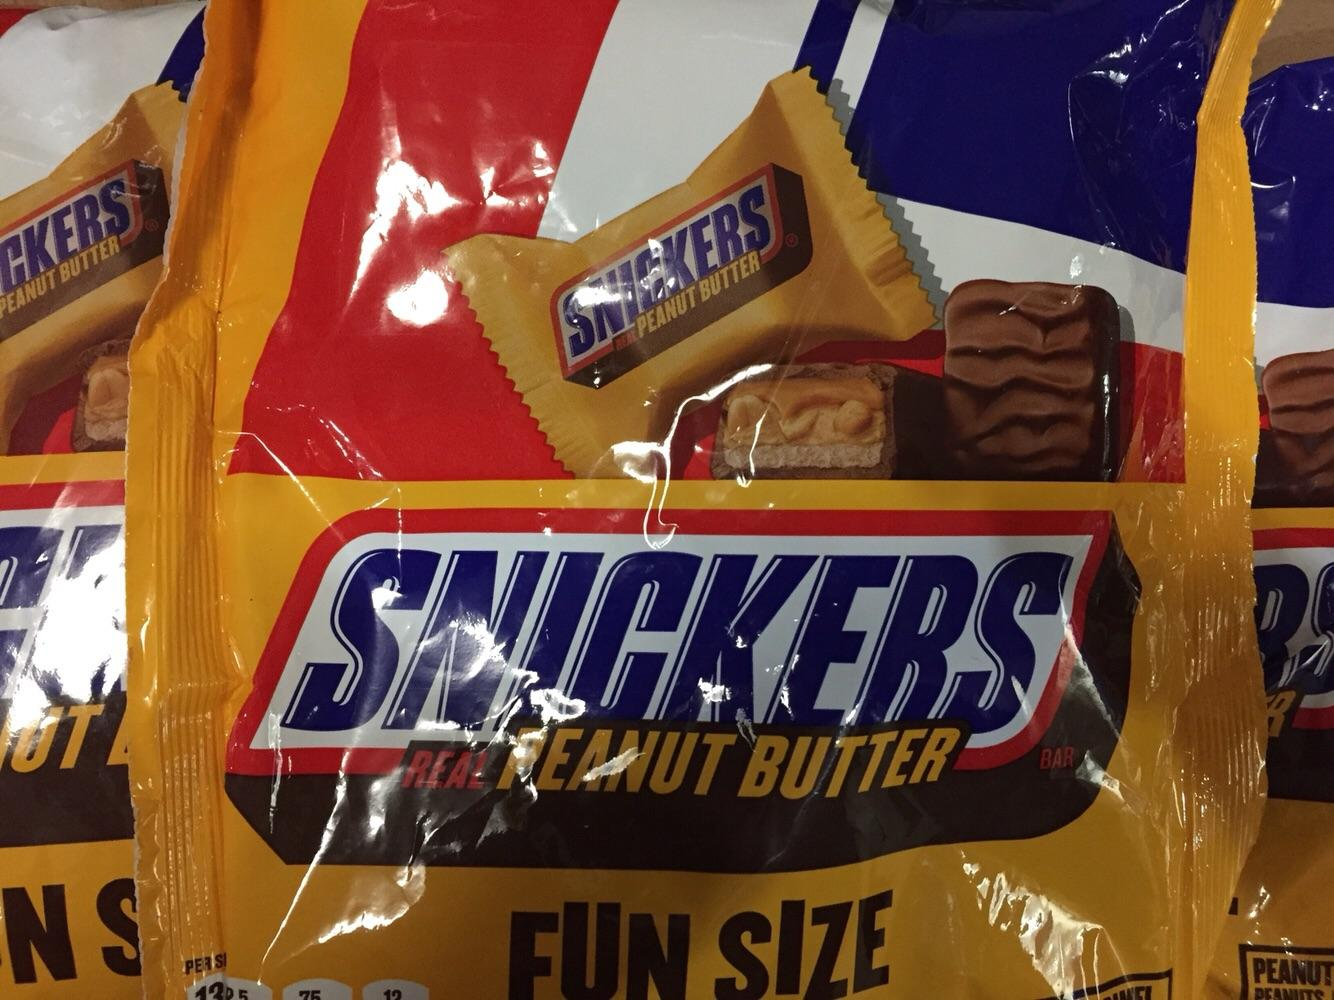snickers: (272, 547, 1081, 738), (272, 547, 1075, 738), (280, 547, 1075, 738), (564, 181, 770, 356), (568, 181, 770, 356), (0, 178, 130, 290), (0, 178, 125, 290)
